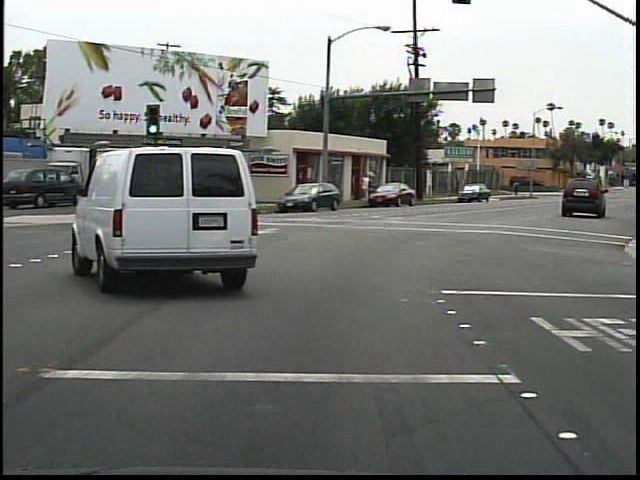person: (357, 171, 371, 203), (510, 176, 522, 201)
